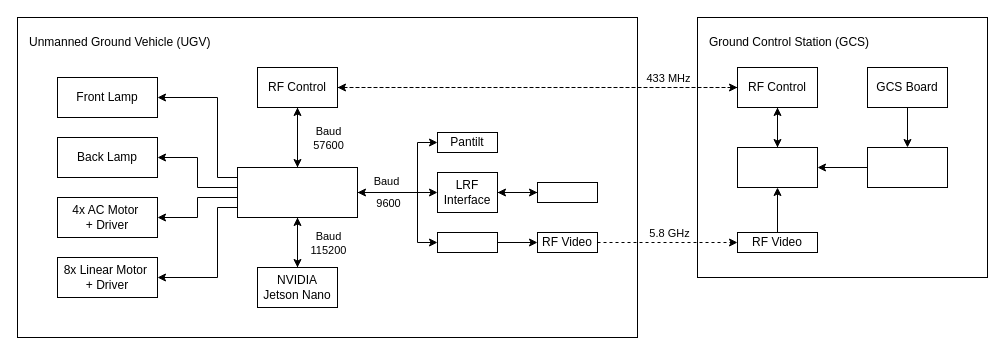
This 1005x355 diagram has some shape labels left out. The shapes that lost their labels are listed below. From the top down, each one's box as (x1, y1, x2, y2) in pixels, then its label:
(736, 146, 818, 188): Asus NUC
(866, 146, 948, 188): Arduino Mega Pro
(236, 166, 358, 218): STM32 Nucleo-G474RE
(536, 182, 598, 202): LRF
(436, 232, 498, 252): Camera
